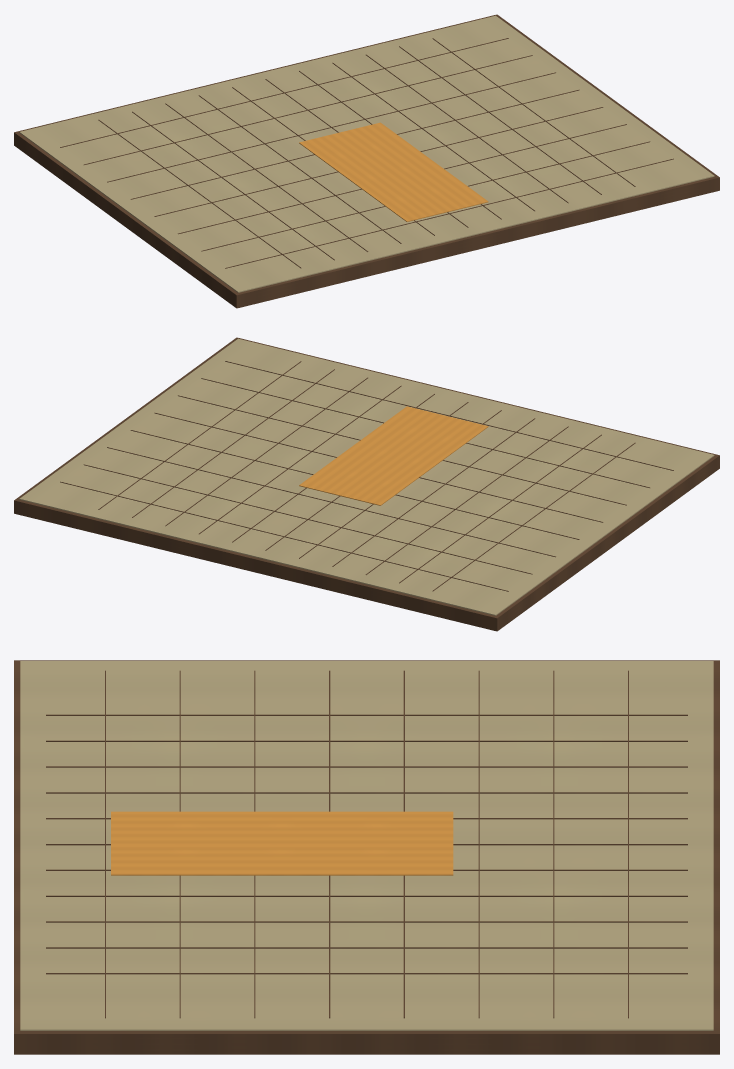
The model's file is atlas100-s014-a07.glb.
The picture shows the model from 3 angles, top to bottom: view 1: azimuth 30°, elevation 25°; view 2: azimuth 150°, elevation 25°; view 3: azimuth 270°, elevation 25°; orthographic projection. The views are drawn at different scales.
Parts seen in each view (by area): view 1: atlas100-s014-a07:part-001, atlas100-s014-a07:part-000, atlas100-s014-a07:part-021, atlas100-s014-a07:part-015, atlas100-s014-a07:part-014, atlas100-s014-a07:part-013, atlas100-s014-a07:part-020, atlas100-s014-a07:part-017, atlas100-s014-a07:part-019, atlas100-s014-a07:part-016, atlas100-s014-a07:part-018; view 2: atlas100-s014-a07:part-001, atlas100-s014-a07:part-000, atlas100-s014-a07:part-021, atlas100-s014-a07:part-014, atlas100-s014-a07:part-013, atlas100-s014-a07:part-020, atlas100-s014-a07:part-015, atlas100-s014-a07:part-016, atlas100-s014-a07:part-019, atlas100-s014-a07:part-018, atlas100-s014-a07:part-017; view 3: atlas100-s014-a07:part-001, atlas100-s014-a07:part-000, atlas100-s014-a07:part-021, atlas100-s014-a07:part-002, atlas100-s014-a07:part-003, atlas100-s014-a07:part-004, atlas100-s014-a07:part-005, atlas100-s014-a07:part-009, atlas100-s014-a07:part-010, atlas100-s014-a07:part-011, atlas100-s014-a07:part-012, atlas100-s014-a07:part-014 (+1 smaller).
Boxes of the visible parts, <box> form: atlas100-s014-a07:part-001: <box>19,15,714,292</box>; atlas100-s014-a07:part-000: <box>14,14,719,308</box>; atlas100-s014-a07:part-021: <box>299,122,488,221</box>; atlas100-s014-a07:part-015: <box>107,72,555,182</box>; atlas100-s014-a07:part-014: <box>84,55,532,164</box>; atlas100-s014-a07:part-013: <box>60,38,508,147</box>; atlas100-s014-a07:part-020: <box>225,158,673,268</box>; atlas100-s014-a07:part-017: <box>154,107,603,216</box>; atlas100-s014-a07:part-019: <box>201,141,650,251</box>; atlas100-s014-a07:part-016: <box>130,89,579,199</box>; atlas100-s014-a07:part-018: <box>178,124,626,234</box>; atlas100-s014-a07:part-001: <box>19,338,714,615</box>; atlas100-s014-a07:part-000: <box>14,337,719,631</box>; atlas100-s014-a07:part-021: <box>299,406,488,505</box>; atlas100-s014-a07:part-014: <box>83,464,532,574</box>; atlas100-s014-a07:part-013: <box>60,481,508,591</box>; atlas100-s014-a07:part-020: <box>225,361,673,470</box>; atlas100-s014-a07:part-015: <box>107,447,555,557</box>; atlas100-s014-a07:part-016: <box>130,430,579,539</box>; atlas100-s014-a07:part-019: <box>201,378,649,487</box>; atlas100-s014-a07:part-018: <box>178,395,626,505</box>; atlas100-s014-a07:part-017: <box>154,412,603,522</box>; atlas100-s014-a07:part-001: <box>20,661,713,1030</box>; atlas100-s014-a07:part-000: <box>14,660,719,1054</box>; atlas100-s014-a07:part-021: <box>111,811,453,875</box>; atlas100-s014-a07:part-002: <box>46,714,687,715</box>; atlas100-s014-a07:part-003: <box>46,740,687,741</box>; atlas100-s014-a07:part-004: <box>46,766,687,767</box>; atlas100-s014-a07:part-005: <box>46,792,687,793</box>; atlas100-s014-a07:part-009: <box>46,895,687,896</box>; atlas100-s014-a07:part-010: <box>46,921,687,922</box>; atlas100-s014-a07:part-011: <box>46,947,687,948</box>; atlas100-s014-a07:part-012: <box>46,973,687,974</box>; atlas100-s014-a07:part-014: <box>553,670,554,1018</box>.
Size of the model in its own units: 13.02 by 0.404 by 10.4.
3 materials, 3 textured.
